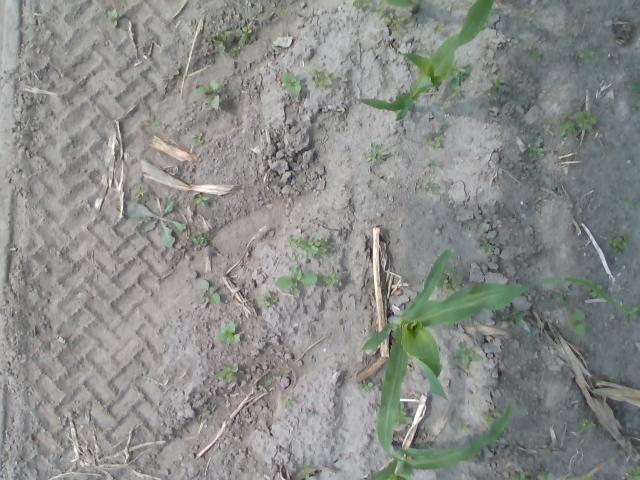Maize: (362, 249, 622, 462), (358, 0, 498, 123), (367, 402, 513, 480), (372, 0, 421, 16)
Weeds: (122, 200, 188, 250), (274, 264, 318, 296), (448, 340, 482, 372), (559, 108, 597, 136), (287, 233, 328, 258), (448, 60, 473, 98), (195, 78, 224, 110), (196, 278, 220, 305), (436, 268, 464, 290), (567, 308, 588, 337), (204, 29, 228, 54), (384, 12, 410, 35), (482, 76, 506, 100), (280, 72, 304, 96), (214, 322, 240, 344), (478, 406, 502, 428), (106, 8, 130, 29), (502, 306, 526, 327), (364, 142, 388, 162), (312, 68, 336, 88), (394, 401, 413, 426), (606, 234, 628, 253), (215, 364, 238, 382), (256, 290, 278, 308), (424, 132, 446, 149), (188, 230, 210, 247), (576, 46, 596, 64), (422, 176, 440, 196), (526, 141, 545, 158), (321, 272, 340, 288), (524, 46, 544, 61), (141, 114, 161, 129), (623, 464, 640, 480), (577, 418, 594, 434), (623, 304, 640, 320), (298, 462, 312, 480), (281, 394, 297, 409), (588, 284, 604, 299), (536, 467, 554, 480), (375, 1, 389, 17), (190, 132, 206, 146), (508, 470, 530, 480), (235, 26, 253, 38), (193, 193, 209, 206), (551, 292, 567, 305), (480, 240, 494, 253), (358, 380, 373, 392), (352, 0, 374, 8), (133, 186, 147, 198), (621, 195, 635, 206), (432, 22, 444, 34), (630, 99, 640, 112), (454, 424, 469, 432), (429, 158, 438, 168), (632, 82, 640, 93), (418, 44, 427, 53)
